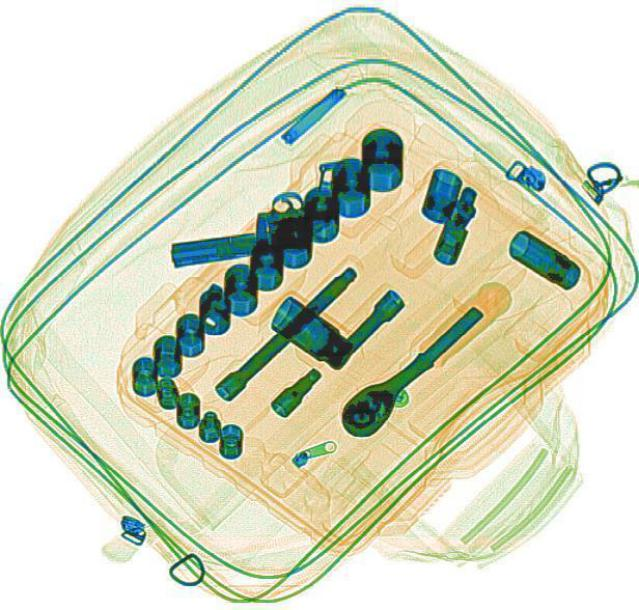Gun: (157, 157, 362, 266)
